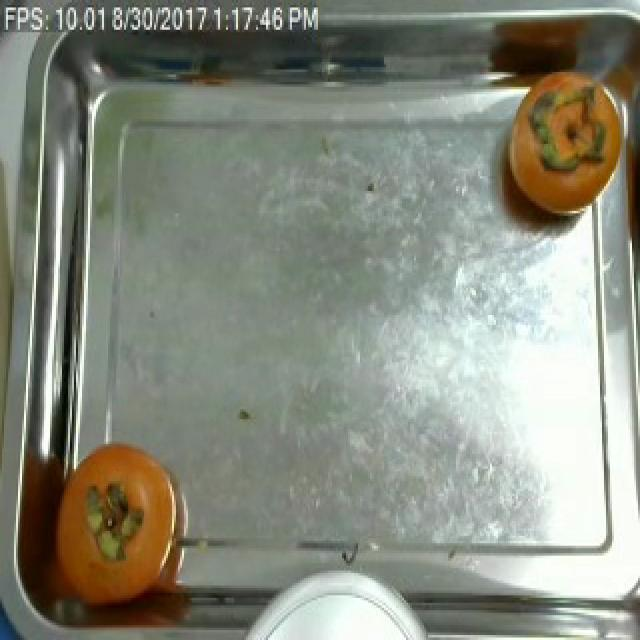Fruit: (512, 60, 622, 176)
